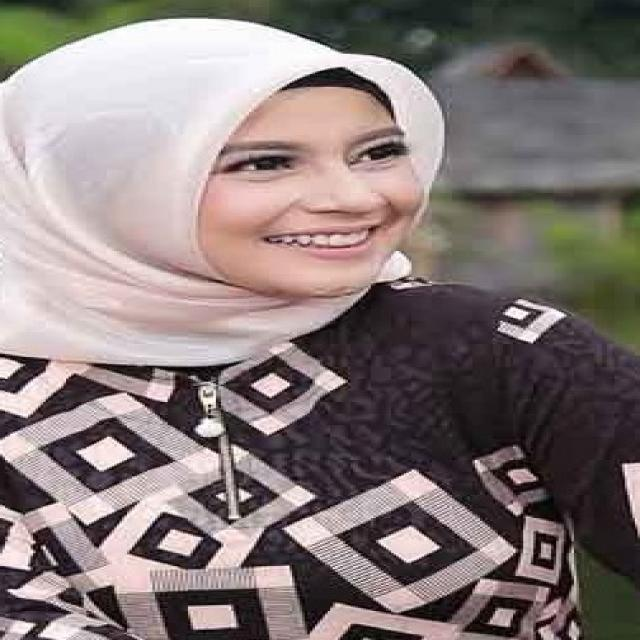head: (11, 21, 441, 309)
